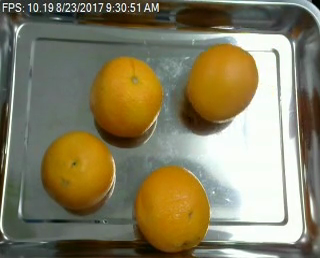Orange: (134, 164, 212, 253), (40, 130, 116, 210), (90, 56, 165, 136), (185, 44, 258, 123)
